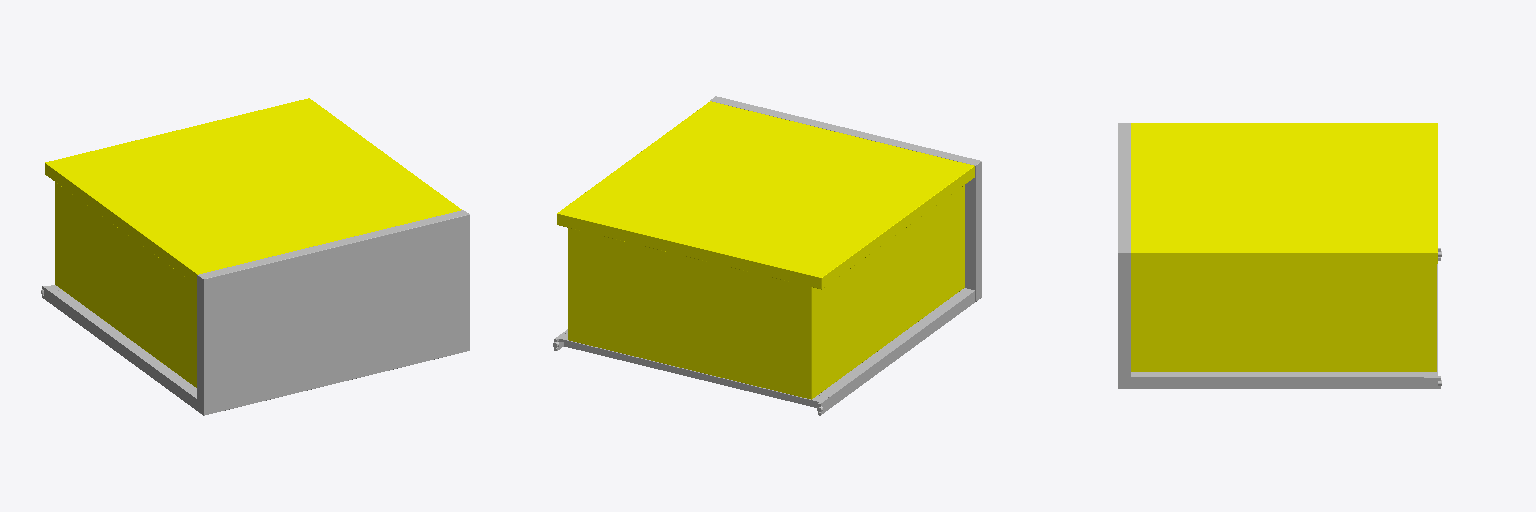
File: aca1.obj
3 renders of one model, left to right at view 1: azimuth 30°, elevation 25°; view 2: azimuth 150°, elevation 25°; view 3: azimuth 270°, elevation 25°, orthographic.
Visible parts, largest first — view 1: TOP; view 2: TOP; view 3: TOP.
Part boxes in pixels (bbox=[...]): TOP: bbox=[41, 98, 469, 415]; TOP: bbox=[553, 96, 981, 415]; TOP: bbox=[1118, 123, 1441, 388].
Bounding box in the file's own units: 0.9705 × 0.4703 × 1.01.